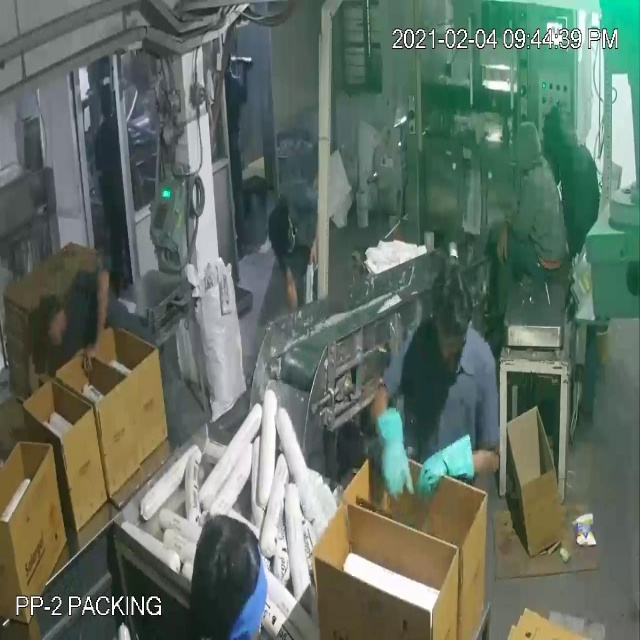Guantes: (414, 419, 479, 518), (368, 388, 414, 517)
Sin_guantes: (80, 247, 114, 378), (279, 255, 300, 332), (494, 220, 513, 276)
